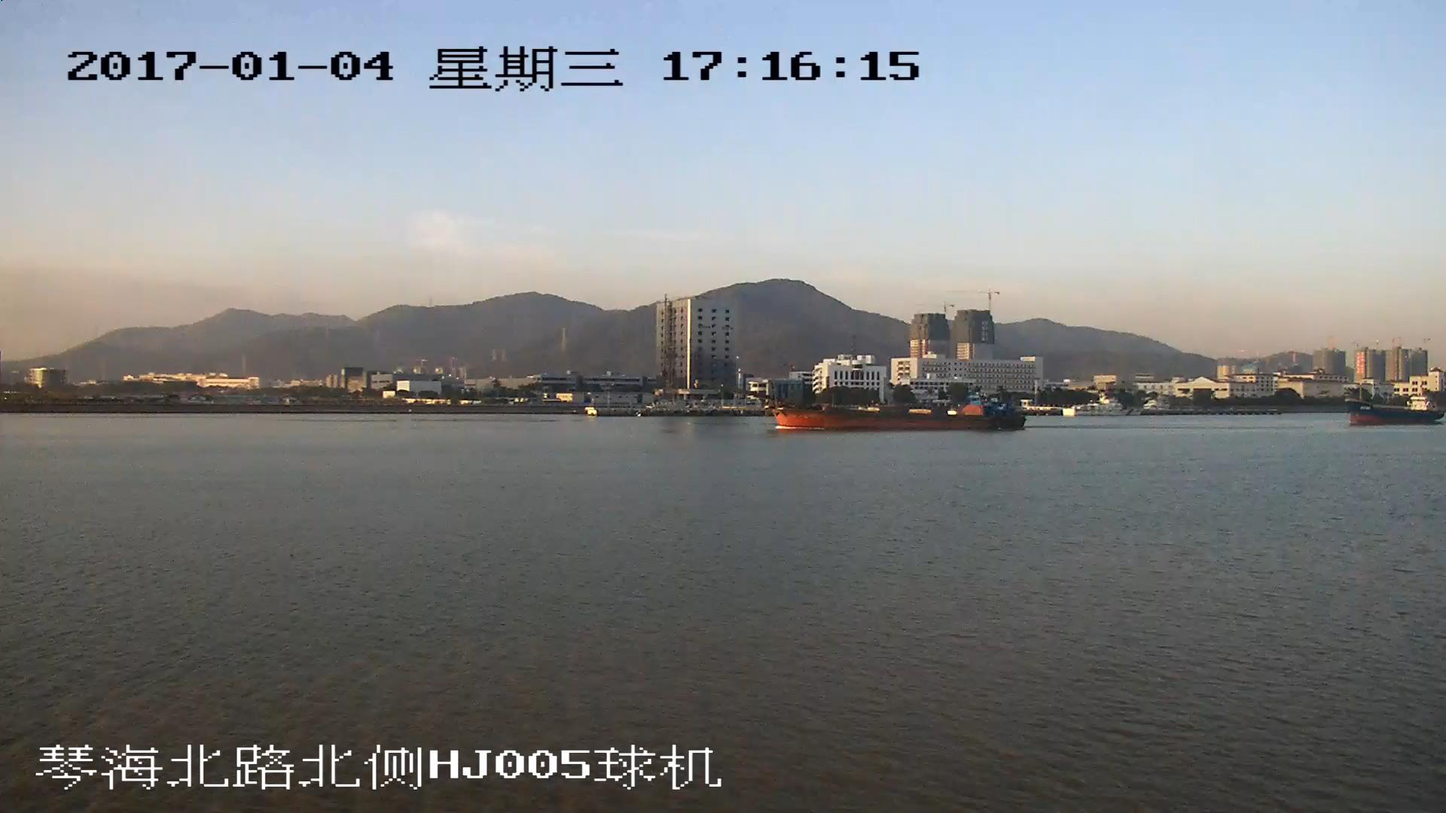bulk cargo carrier: (699, 379, 1024, 430)
